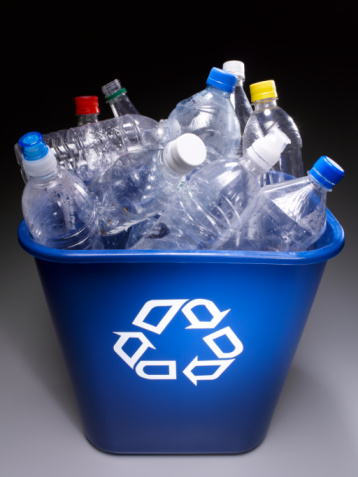plastic_bottle: (15, 57, 212, 306), (150, 28, 267, 334), (199, 10, 283, 362), (231, 71, 345, 329), (234, 32, 331, 328), (83, 28, 175, 295), (51, 43, 142, 291), (131, 78, 213, 312), (10, 105, 106, 299)
